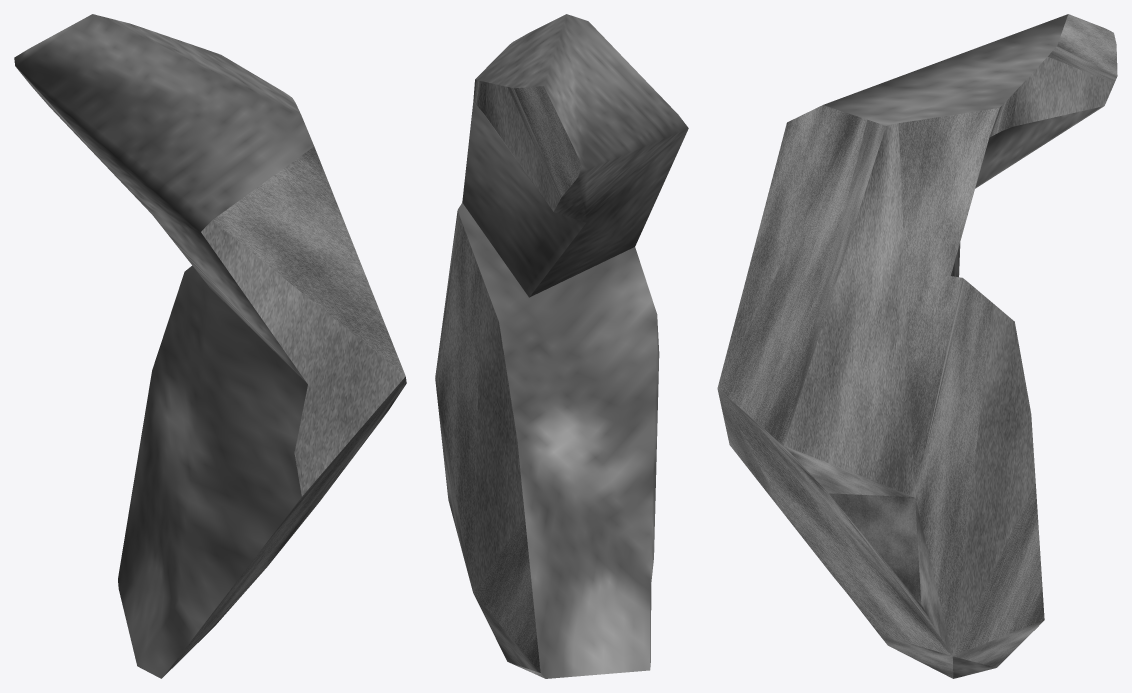
The model's file is body_cell_002.fbx.
3 views of the same model, side by side, from view 1: azimuth 30°, elevation 25°; view 2: azimuth 150°, elevation 25°; view 3: azimuth 270°, elevation 25° (orthographic). The views are drawn at different scales.
Visible parts, largest first — view 1: body_cell.002; view 2: body_cell.002; view 3: body_cell.002.
Part boxes in pixels (left/top/right/bottom): body_cell.002: left=14, top=14, right=406, bottom=678; body_cell.002: left=435, top=14, right=688, bottom=678; body_cell.002: left=717, top=14, right=1117, bottom=678.
Size of the model in its own units: 21.66 by 51.3 by 29.08.
